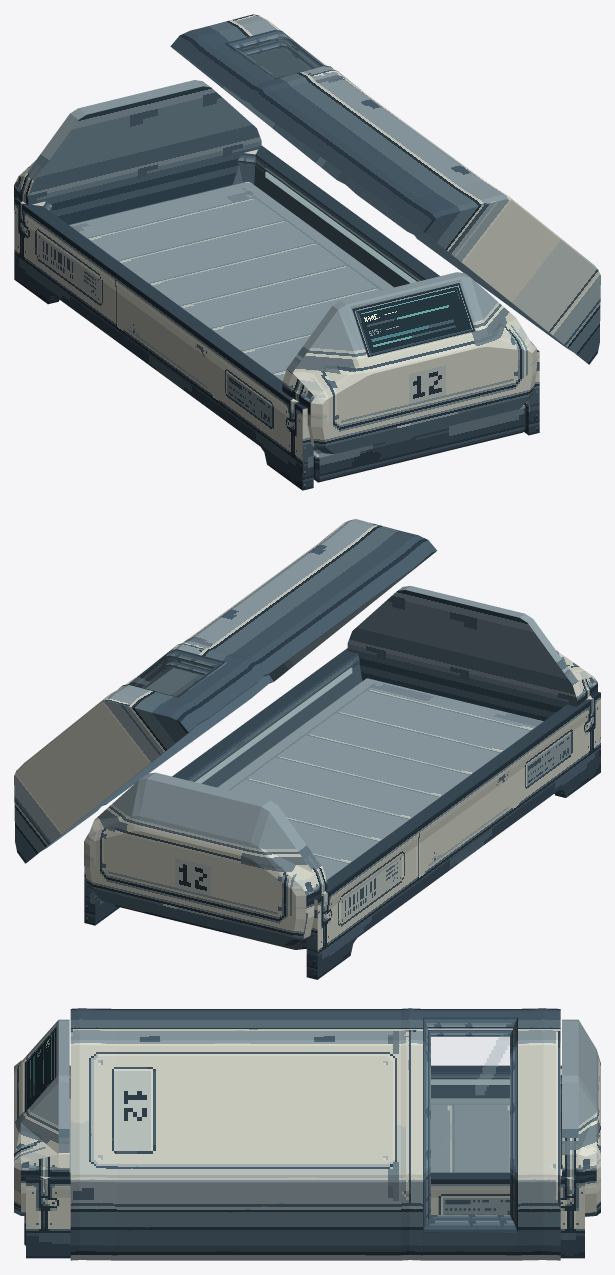
The model's file is cryopod_standard_v8_open.glb.
The picture shows the model from 3 angles, top to bottom: view 1: azimuth 30°, elevation 25°; view 2: azimuth 150°, elevation 25°; view 3: azimuth 270°, elevation 25°; orthographic projection. The views are drawn at different scales.
Visible parts, largest first — view 1: PodLid, PodShellEnd, PodShell, PodMattress, PodShellSection, PodDisplay, PodLidInterior, PodInterior, PodWindowFrame, PodBasinSeal, PodTubeDiffuser_R, PodTubeHousing_R; view 2: PodLid, PodShellEnd, PodMattress, PodShell, PodShellSection, PodLidInterior, PodInterior, PodWindowFrame, PodTubeDiffuser_R, PodBasinSeal, PodTubeHousing_R; view 3: PodLid, PodShell, PodShellEnd, PodMattress, PodWindowFrame, PodWindowSeal, PodDisplay, PodInterior, PodGlass, PodTubeDiffuser_L, PodBasinSeal.
Part boxes in pixels (bbox=[...]): PodLid: bbox=[170, 14, 600, 364]; PodShellEnd: bbox=[19, 80, 539, 490]; PodShell: bbox=[14, 113, 539, 490]; PodMattress: bbox=[69, 181, 393, 381]; PodShellSection: bbox=[28, 86, 261, 224]; PodDisplay: bbox=[352, 283, 475, 357]; PodLidInterior: bbox=[171, 40, 587, 363]; PodInterior: bbox=[43, 153, 426, 287]; PodWindowFrame: bbox=[225, 29, 332, 79]; PodBasinSeal: bbox=[44, 154, 424, 280]; PodTubeDiffuser_R: bbox=[265, 171, 416, 283]; PodTubeHousing_R: bbox=[264, 168, 420, 281]; PodLid: bbox=[14, 519, 436, 863]; PodShellEnd: bbox=[84, 586, 593, 979]; PodMattress: bbox=[217, 678, 543, 879]; PodShell: bbox=[86, 619, 600, 979]; PodShellSection: bbox=[347, 590, 576, 721]; PodLidInterior: bbox=[27, 551, 436, 862]; PodInterior: bbox=[185, 654, 362, 787]; PodWindowFrame: bbox=[119, 649, 226, 697]; PodTubeDiffuser_R: bbox=[195, 667, 352, 783]; PodBasinSeal: bbox=[187, 655, 359, 780]; PodTubeHousing_R: bbox=[191, 664, 353, 781]; PodLid: bbox=[70, 1008, 560, 1260]; PodShell: bbox=[21, 1065, 596, 1258]; PodShellEnd: bbox=[14, 1019, 600, 1221]; PodMattress: bbox=[69, 1098, 509, 1172]; PodWindowFrame: bbox=[423, 1017, 517, 1232]; PodWindowSeal: bbox=[428, 1029, 512, 1220]; PodDisplay: bbox=[25, 1027, 55, 1112]; PodInterior: bbox=[69, 1072, 561, 1168]; PodGlass: bbox=[438, 1034, 509, 1157]; PodTubeDiffuser_L: bbox=[431, 1079, 509, 1084]; PodBasinSeal: bbox=[69, 1073, 561, 1087].
Size of the model in its own units: 1.42 by 0.9219 by 2.29.
Materials: 10 (8 with a texture image).
